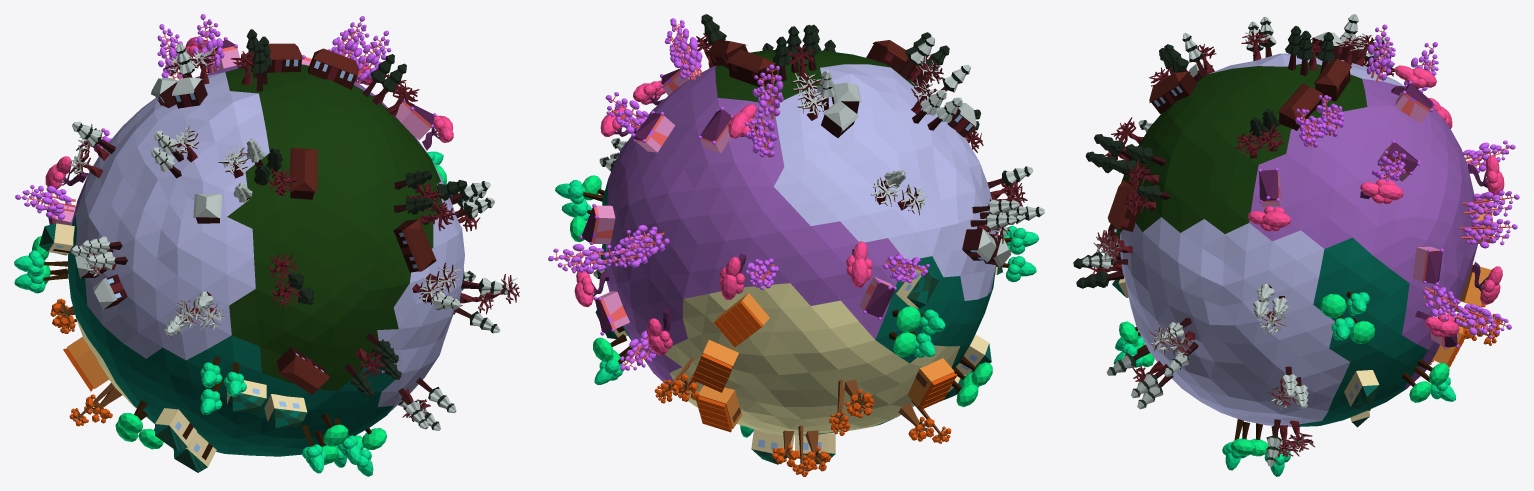
The model's file is planettest3.fbx.
3 views of the same model, side by side, from view 1: azimuth 30°, elevation 25°; view 2: azimuth 150°, elevation 25°; view 3: azimuth 270°, elevation 25° (orthographic). The views are drawn at different scales.
Visible parts, largest first — view 1: Planet, HouseIce.006, HouseIce.002, HouseIce.003, HouseIce.004, Cube.197, Cube.199, HouseDeser.004, Tree8.002, Cube.196, Cube.198, HouseIce.005 (+18 smaller); view 2: Planet, HouseDeser.003, HouseDeser.004, HouseDeser.002, HouseDeser.001, HouseIce.005, Tree8.006, Tree8.011, HousePink.004, HousePink.002, Tree8.004, HousePink.003 (+35 smaller); view 3: Planet, HouseIce.003, HouseIce.004, Cube.200, HouseIce.005, HouseIce.006, Tree8.008, Tree8.009, Tree8.010, Tree8.004, HousePink.002, HousePink.005 (+23 smaller).
Part boxes in pixels (x1,y1,x2,y2): Planet: [68, 64, 464, 456]; HouseIce.006: [393, 219, 436, 272]; HouseIce.002: [276, 347, 329, 394]; HouseIce.003: [289, 148, 317, 199]; HouseIce.004: [308, 48, 358, 89]; Cube.197: [155, 408, 196, 451]; Cube.199: [264, 394, 307, 427]; HouseDeser.004: [63, 337, 109, 391]; Tree8.002: [15, 185, 75, 219]; Cube.196: [173, 432, 216, 472]; Cube.198: [227, 380, 266, 412]; HouseIce.005: [252, 43, 302, 72]; Planet: [602, 50, 998, 435]; HouseDeser.003: [713, 293, 769, 347]; HouseDeser.004: [907, 358, 957, 409]; HouseDeser.002: [696, 385, 741, 432]; HouseDeser.001: [692, 339, 738, 392]; HouseIce.005: [727, 49, 776, 87]; Tree8.006: [664, 21, 701, 79]; Tree8.011: [548, 244, 608, 273]; HousePink.004: [631, 111, 674, 152]; HousePink.002: [579, 204, 615, 244]; Tree8.004: [752, 64, 783, 119]; HousePink.003: [593, 291, 629, 335]; Planet: [1116, 53, 1478, 426]; HouseIce.003: [1149, 71, 1197, 113]; HouseIce.004: [1277, 83, 1323, 130]; Cube.200: [1344, 370, 1379, 410]; HouseIce.005: [1313, 58, 1351, 101]; HouseIce.006: [1107, 180, 1143, 231]; Tree8.008: [1455, 304, 1511, 338]; Tree8.009: [1460, 219, 1517, 248]; Tree8.010: [1463, 190, 1519, 220]; Tree8.004: [1366, 24, 1395, 82]; HousePink.002: [1412, 246, 1443, 285]; HousePink.005: [1395, 81, 1435, 123].
Bounding box in the file's own units: 1472 × 1463 × 1422.
